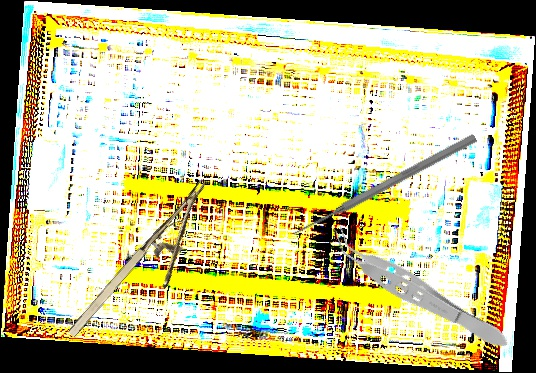Needle Holder: (63, 178, 237, 361)
Pusher: (290, 131, 479, 240)
Tissue Forceps: (320, 222, 517, 359)
